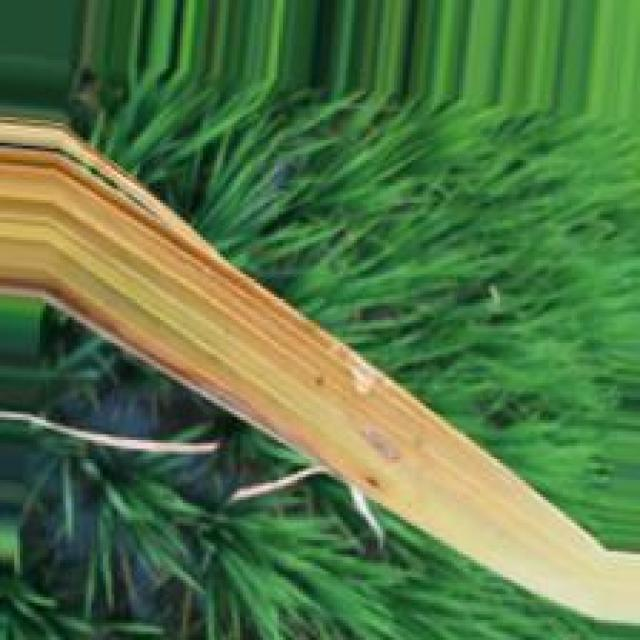Bacterial_Leaf_Blight: (0, 121, 640, 626)
